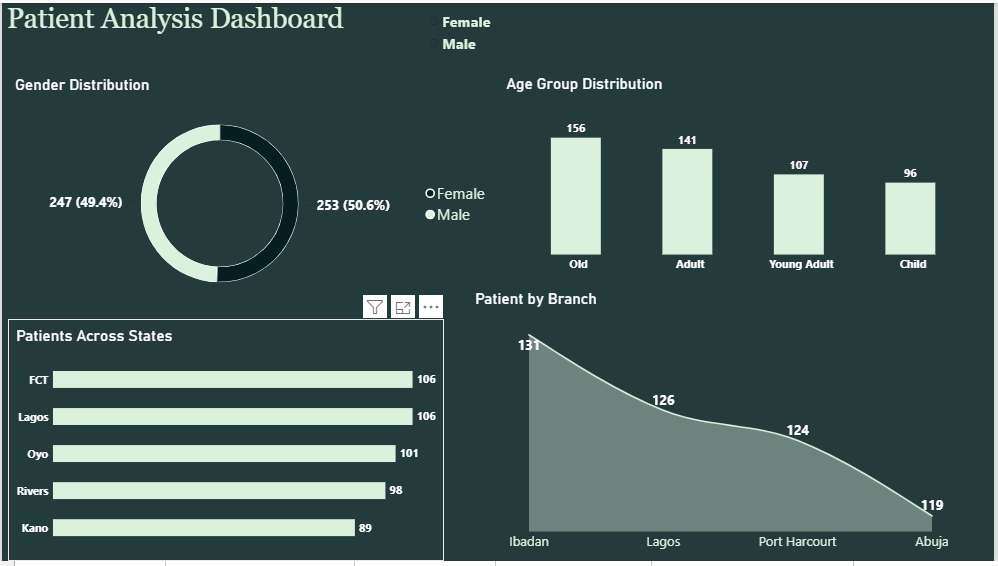

This screenshot's page, from the dashboard's own definition file:
{"tool":"powerbi","page":{"name":"Patient Analysis Dashboard","canvas":[1920,1080],"ordinal":1},"visuals":[{"type":"textbox","box":[10.6,0,733.5,95.7],"z":0},{"type":"donutChart","title":"Gender Distribution","fields":{"Category":["HealthcareData.Gender"],"Y":["CountNonNull(HealthcareData.Patient_ID)"]},"box":[10.6,125.4,950.3,476.2],"z":1000},{"type":"columnChart","title":"Age Group Distribution","fields":{"Category":["HealthcareData.Age Group"],"Y":["CountNonNull(HealthcareData.Patient_ID)"]},"box":[960,124,960,416],"z":2000},{"type":"barChart","title":"Patients Across States","fields":{"Category":["HealthcareData.State"],"Y":["CountNonNull(HealthcareData.Patient_ID)"]},"box":[12,612,844,468],"z":3000},{"type":"areaChart","title":"Patient by Branch","fields":{"Category":["HealthcareData.Hospital_Branch"],"Y":["CountNonNull(HealthcareData.Patient_ID)"]},"box":[900,540,1020,540],"z":4000},{"type":"listSlicer","fields":{"Values":["HealthcareData.Gender"]},"box":[810,0,382,126],"z":5000}]}

Visuals, with their boxes in screenshot pixels (x1, y1, x2, y2), scaled from the page's 1920x1080 canvas onto the 998x566 screenshot:
textbox: bbox=(6, 0, 387, 50)
"Gender Distribution" donutChart: bbox=(6, 66, 499, 315)
"Age Group Distribution" columnChart: bbox=(499, 65, 997, 283)
"Patients Across States" barChart: bbox=(6, 321, 445, 565)
"Patient by Branch" areaChart: bbox=(468, 283, 997, 565)
listSlicer - HealthcareData.Gender: bbox=(421, 0, 620, 66)
